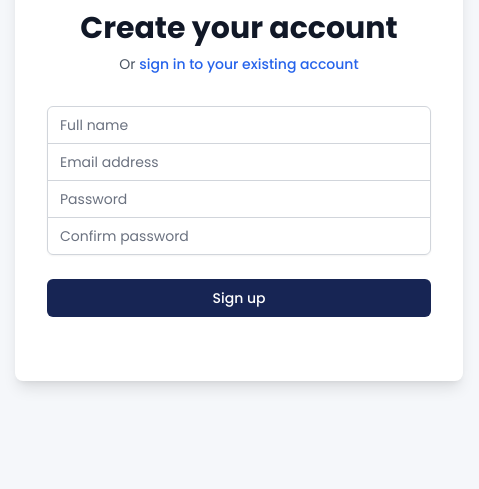
Test case: Register Component › shows error when passwords do not match
Step 1. Type "John Doe" into the field with placeholder "Full name" → (239, 125), box [47,106,431,144]
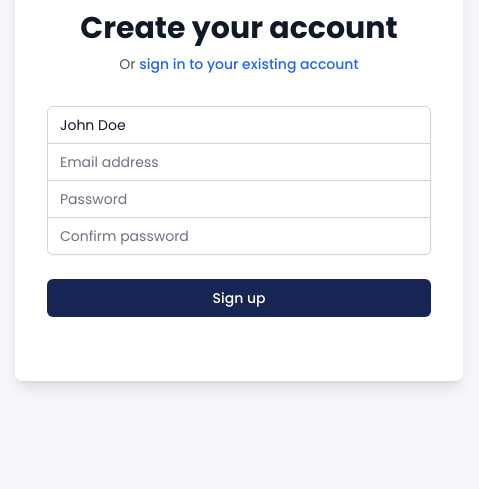
Step 2. Type "john@example.com" into the field with placeholder "Email address" → (239, 162), box [47,143,431,181]
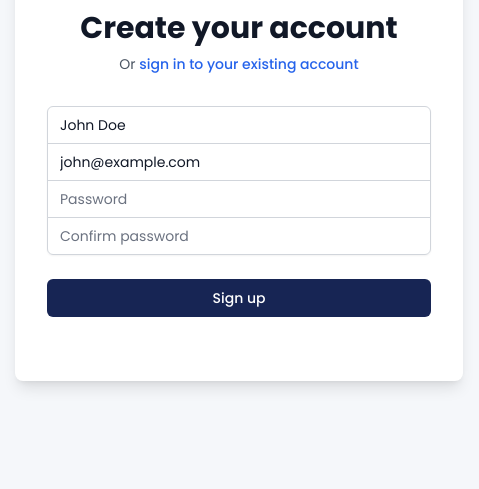
Step 3. Type "password123" into the password field with placeholder "Password" → (239, 199), box [47,180,431,218]
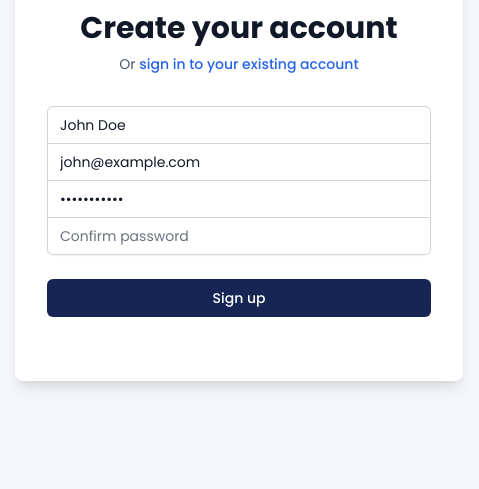
Step 4. Type "differentpassword" into the password field with placeholder "Confirm password" → (239, 236), box [47,217,431,255]
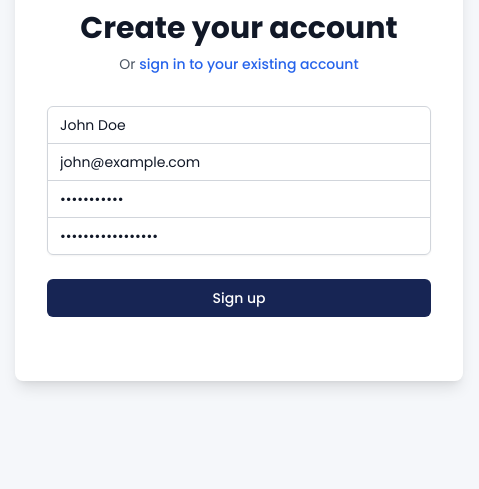
Step 5. Click the button "Sign up" → (239, 298), box [47,279,431,317]
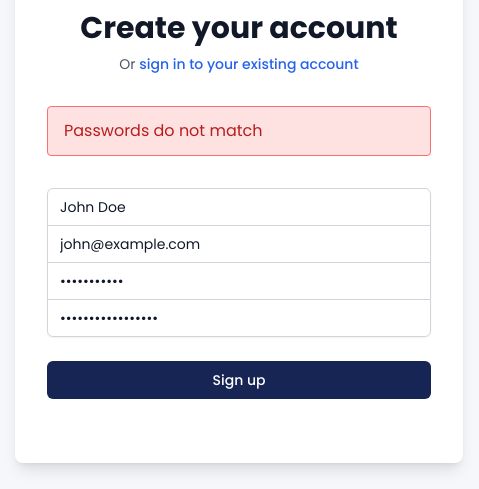
Expected: the text "Passwords do not match" is shown, [64,119,262,142]
